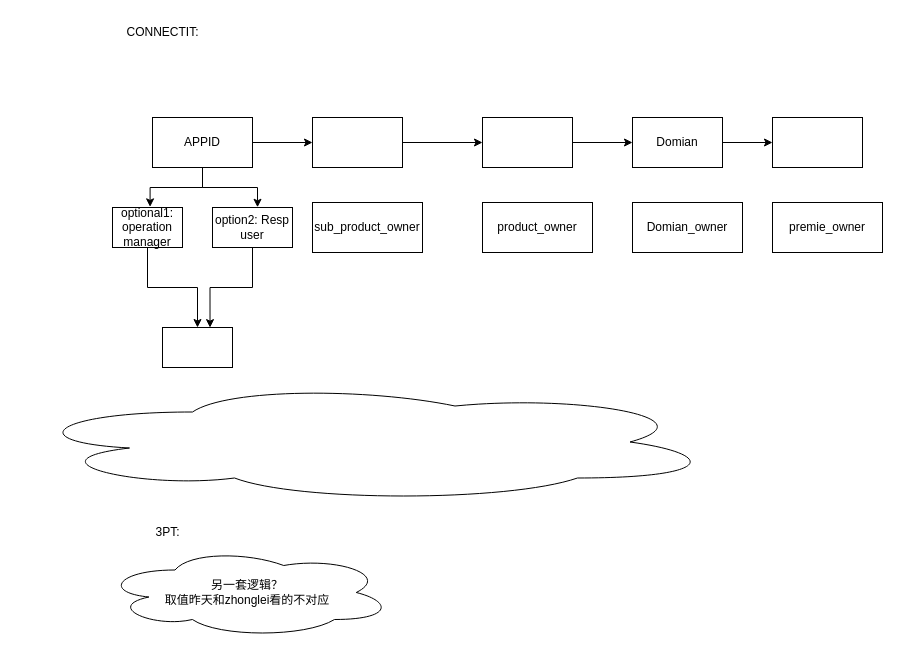
The diagram is 900 pixels wide and 655 high, and some of its shapes have lost their labels. The box of each missing label's shape, as (x1, y1, x2, y2) in pixels:
Department: (162, 326, 232, 368)
Premie: (772, 116, 862, 168)
product: (482, 116, 572, 168)
sub_product: (312, 116, 402, 168)
后期如果用户想在OPCP中做SSP,EG需要添加相应的role在ConnectIT中（是否有可实现性？）: (16, 381, 718, 502)
